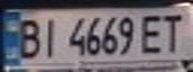4: (63, 14, 87, 56)
6: (100, 12, 121, 56), (84, 12, 103, 56)
9: (115, 12, 139, 56)
B: (12, 15, 45, 60)
E: (136, 11, 169, 55)
I: (36, 15, 63, 58)
T: (157, 9, 190, 53)
